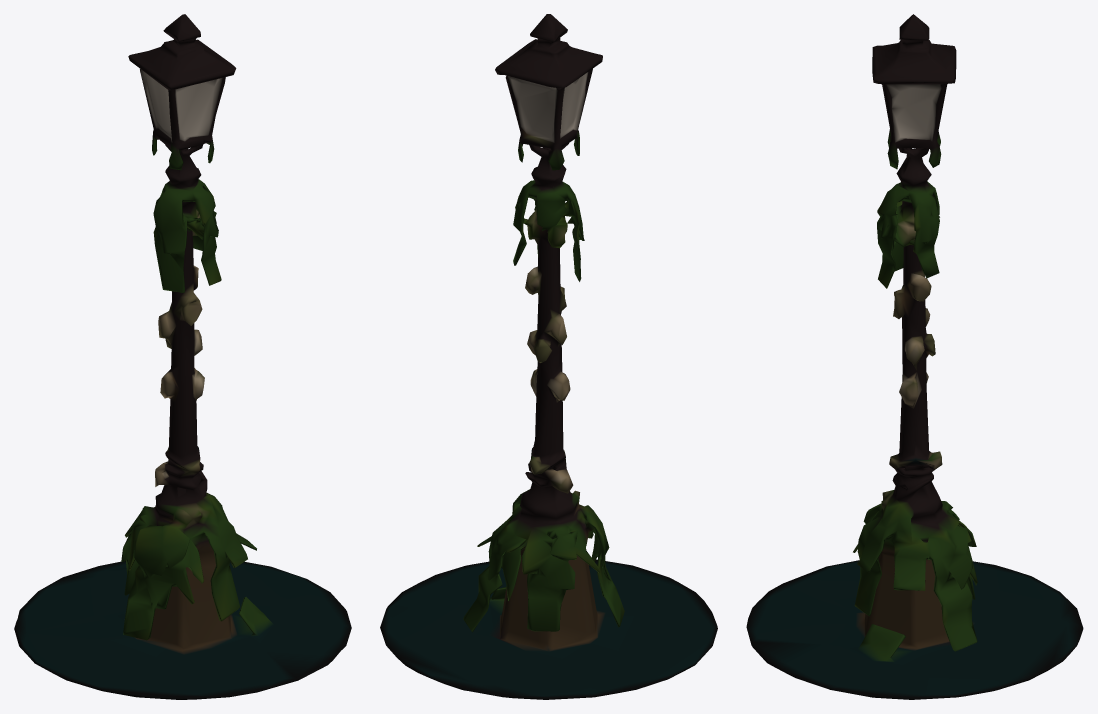
Rendered from gen3d-sunken-lamp-post-lod0.glb.
3 renders of one model, left to right at view 1: azimuth 30°, elevation 25°; view 2: azimuth 150°, elevation 25°; view 3: azimuth 270°, elevation 25°, orthographic.
Parts seen in each view (by area): view 1: part_0; view 2: part_0; view 3: part_0.
Boxes of the visible parts, <box> form: part_0: <box>14,14,351,699</box>; part_0: <box>380,14,717,699</box>; part_0: <box>746,14,1083,699</box>.
Bounding box in the file's own units: 0.5002 × 0.9995 × 0.4967.
